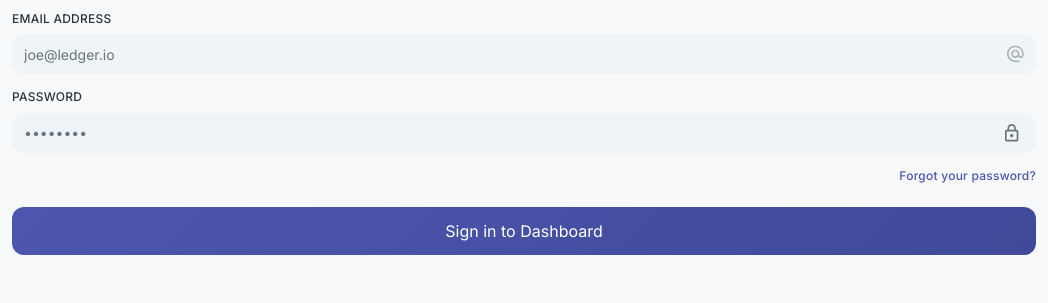
LoginForm › displays an error when the login request fails
This screenshot has width=1048, height=303.
Type "user@example.com" into the field labelled "EMAIL ADDRESS".
click(524, 54); type("user@example.com")  # box [12, 34, 1036, 74]
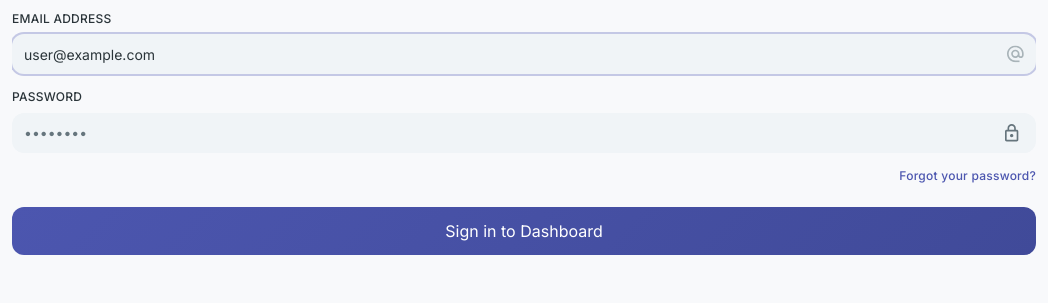
Type "password123" into the password field labelled "PASSWORD".
click(524, 133); type("password123")  # box [12, 113, 1036, 153]
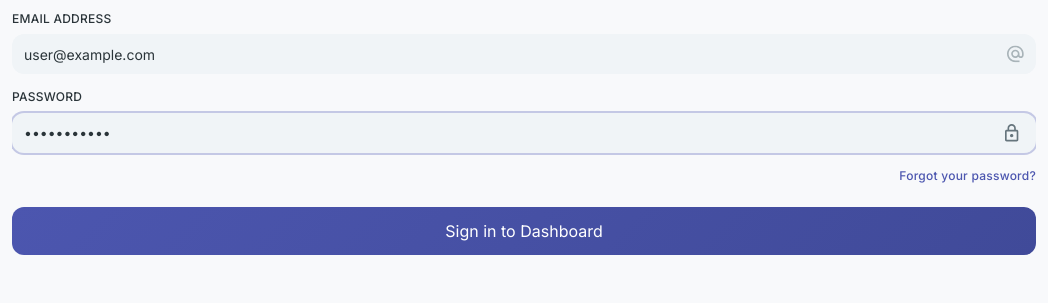
Click the button "Sign in to Dashboard".
click(524, 231)  # box [12, 207, 1036, 255]
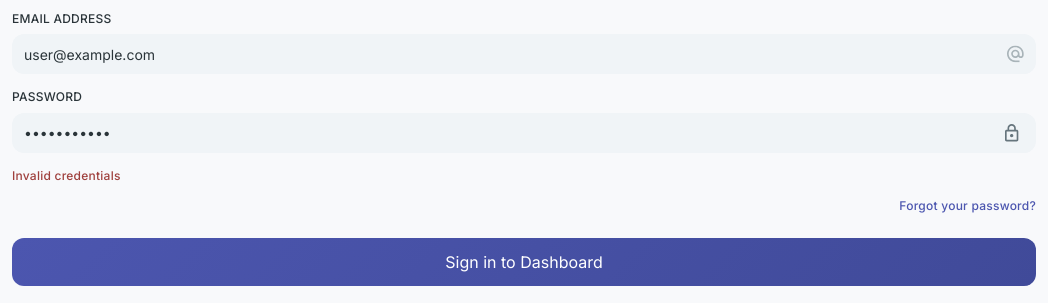
Expected: the text "Invalid credentials" is shown, [12, 168, 121, 183]
